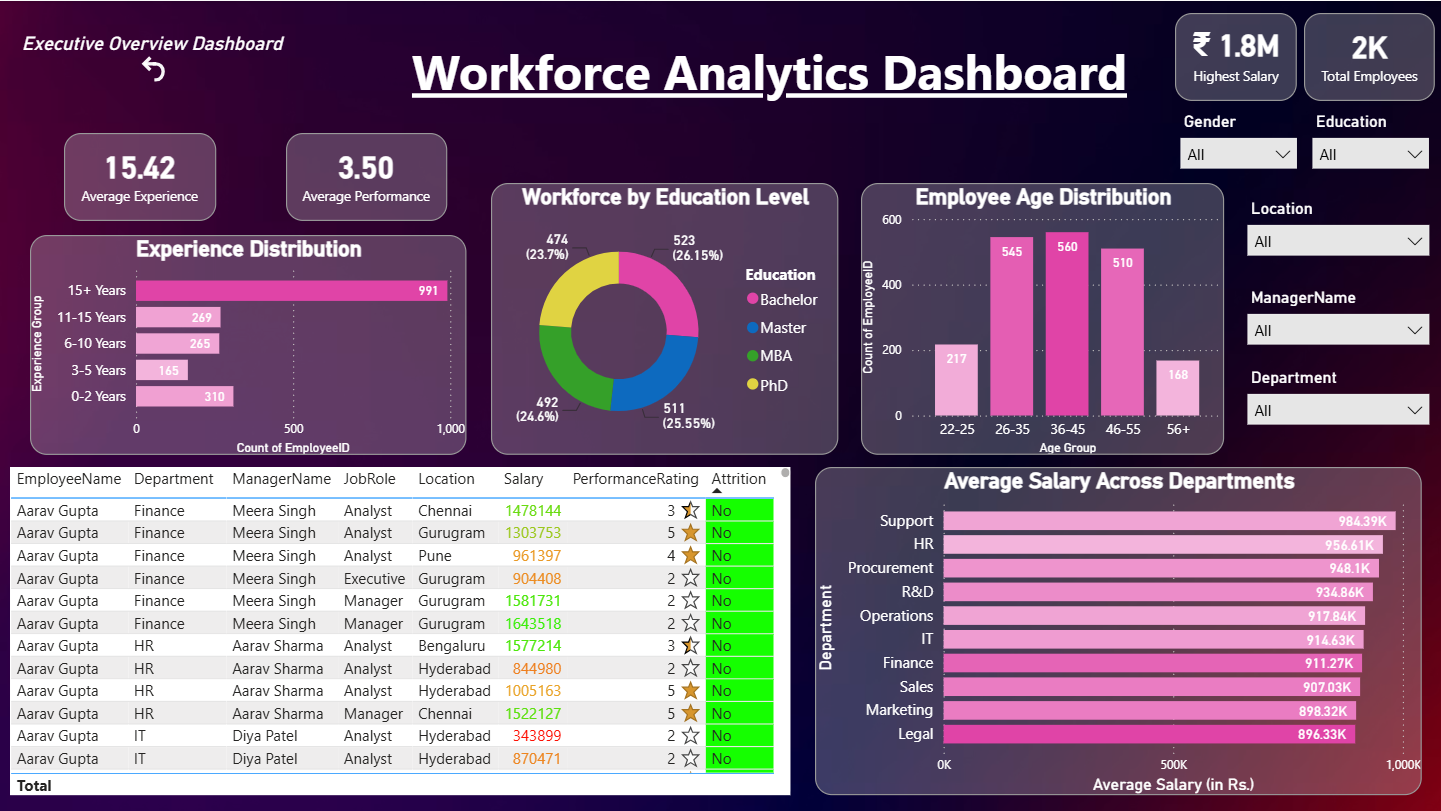

Layout of this report page (visuals, bound fields, positions):
{"tool":"powerbi","page":{"name":"Workforce Analytics","canvas":[1280,720],"ordinal":1},"visuals":[{"type":"slicer","fields":{"Values":["Department.Department"]},"box":[1102.2,325.4,171.1,69.2],"z":0},{"type":"slicer","fields":{"Values":["Employee.Gender"]},"box":[1042.8,98.4,113.5,69.2],"z":1000},{"type":"slicer","fields":{"Values":["Location.Location"]},"box":[1102.2,175.6,171.1,69.2],"z":2000},{"type":"slicer","fields":{"Values":["Manager.ManagerName"]},"box":[1102.2,254.5,171.1,69.2],"z":3000},{"type":"slicer","fields":{"Values":["HR.Education"]},"box":[1159.8,98.4,113.5,69.2],"z":4000},{"type":"clusteredColumnChart","title":"Employee Age Distribution","fields":{"Category":["HR.Age Group"],"Y":["CountNonNull(HR.EmployeeID)"]},"box":[764.3,161.4,321.9,241.2],"z":5000},{"type":"clusteredBarChart","title":"Experience Distribution","fields":{"Category":["HR.Experience Group"],"Y":["CountNonNull(HR.EmployeeID)"]},"box":[27.5,207.5,386.6,195.1],"z":6000},{"type":"donutChart","title":"Workforce by Education Level","fields":{"Category":["HR.Education"],"Y":["CountNonNull(HR.EmployeeID)"]},"box":[436.3,161.4,307.7,241.2],"z":7000},{"type":"clusteredBarChart","title":"Average Salary Across Departments","fields":{"Category":["Department.Department"],"Y":["Measures Table.Average Salary"]},"box":[723.5,413.2,538.2,290.8],"z":8000},{"type":"tableEx","fields":{"Values":["Employee.EmployeeName","Department.Department","Manager.ManagerName","Employee.JobRole","Location.Location","HR.Salary","HR.PerformanceRating","HR.Attrition"]},"box":[9.8,413.2,691.6,290.8],"z":9000},{"type":"cardVisual","fields":{"Data":["Measures Table.Average Experience"]},"box":[57.6,117,134.8,78],"z":10000},{"type":"cardVisual","fields":{"Data":["Measures Table.Average Performance"]},"box":[254.5,117,142.8,78],"z":11000},{"type":"cardVisual","fields":{"Data":["Measures Table.Highest Salary"]},"box":[1042.8,10.6,108.2,78],"z":12000},{"type":"cardVisual","fields":{"Data":["Measures Table.Total Employees"]},"box":[1157.1,10.6,116.2,78],"z":13000},{"type":"textbox","box":[332.5,32.8,701.4,84.2],"z":14000},{"type":"actionButton","title":"Executive Overview Dashboard","box":[20.4,27.5,234.1,44.3],"z":15000}]}

Visuals, with their boxes in screenshot pixels (x1, y1, x2, y2), scaled from the page's 1280x720 canvas onto the 1441x811 screenshot:
slicer - Department.Department: 1241,367,1433,444
slicer - Employee.Gender: 1174,111,1302,189
slicer - Location.Location: 1241,198,1433,276
slicer - Manager.ManagerName: 1241,287,1433,365
slicer - HR.Education: 1306,111,1433,189
"Employee Age Distribution" clusteredColumnChart: 860,182,1223,453
"Experience Distribution" clusteredBarChart: 31,234,466,453
"Workforce by Education Level" donutChart: 491,182,838,453
"Average Salary Across Departments" clusteredBarChart: 815,465,1420,793
tableEx - Employee.EmployeeName x Department.Department: 11,465,790,793
cardVisual - Measures Table.Average Experience: 65,132,217,220
cardVisual - Measures Table.Average Performance: 287,132,447,220
cardVisual - Measures Table.Highest Salary: 1174,12,1296,100
cardVisual - Measures Table.Total Employees: 1303,12,1433,100
textbox: 374,37,1164,132
"Executive Overview Dashboard" actionButton: 23,31,287,81
